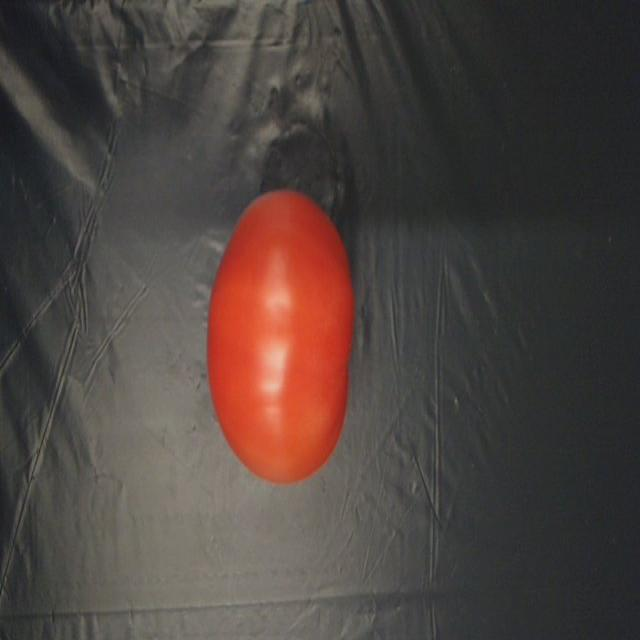kirmizi: (204, 194, 366, 492)
